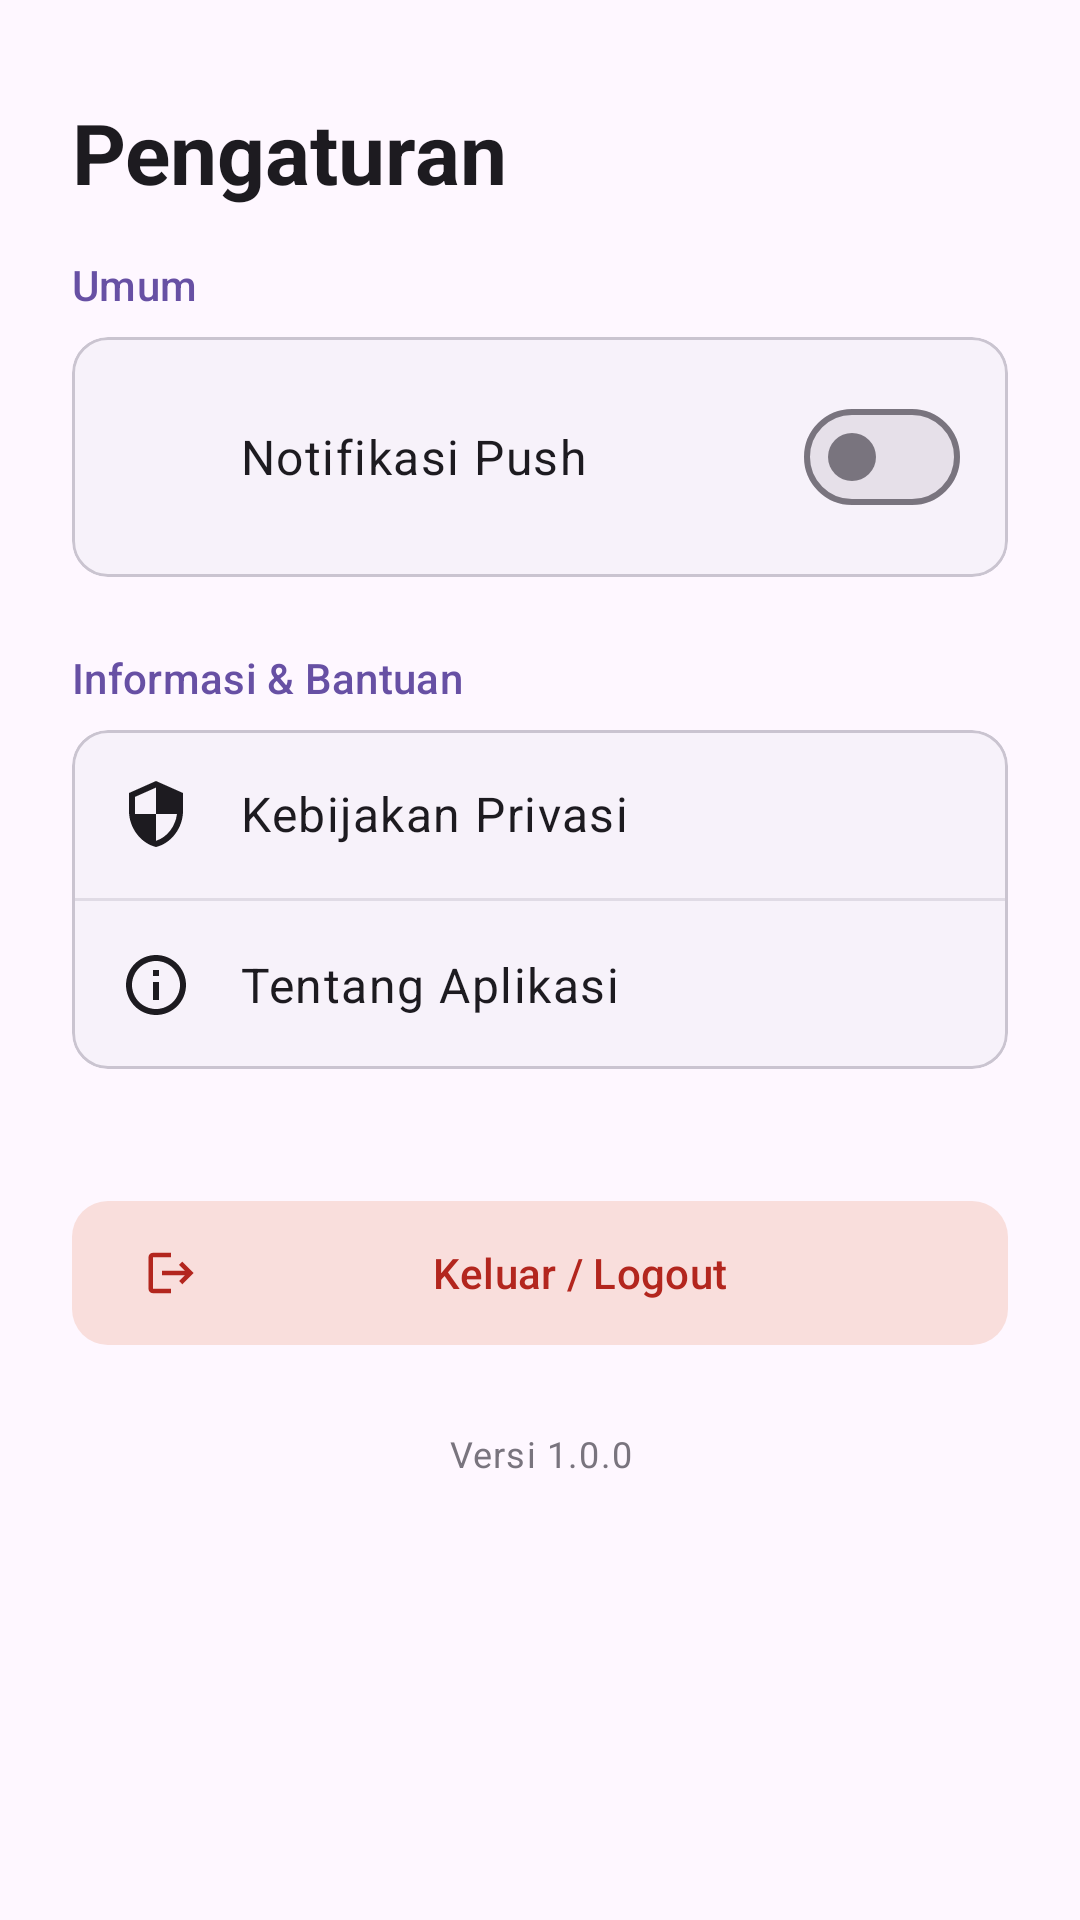

Where to tap for icons on this 1080×1920 app screen, as point (x, y):
Ikon Info: point (156, 985)
Ikon Privasi: point (156, 814)
